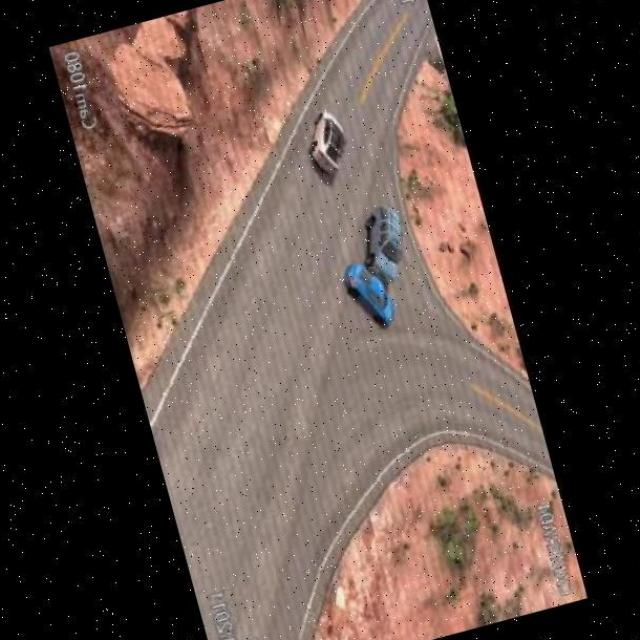accident: (324, 196, 424, 332)
